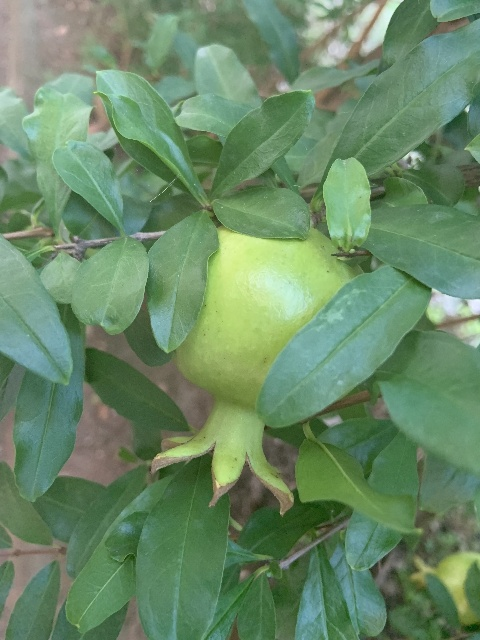mid-growth: (152, 223, 363, 517), (410, 551, 480, 625)
